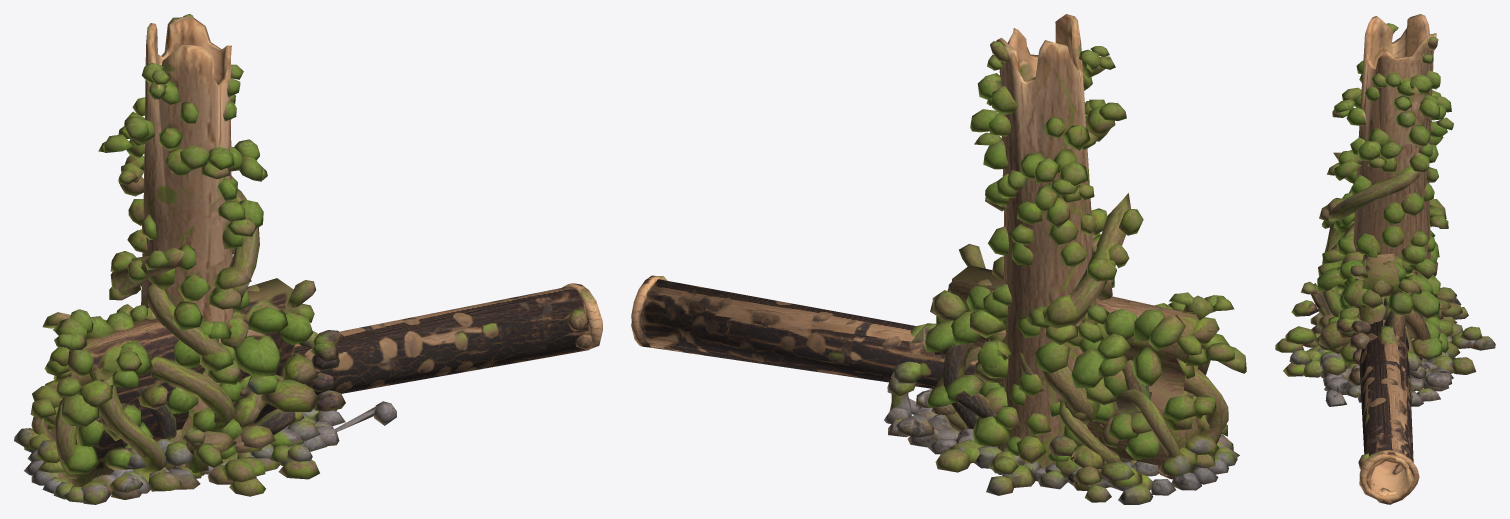
File: bosque_ruinas.glb
3 views of the same model, side by side, from view 1: azimuth 30°, elevation 25°; view 2: azimuth 150°, elevation 25°; view 3: azimuth 270°, elevation 25° (orthographic). The views are drawn at different scales.
Visible parts, largest first — view 1: tronco_puente_pie, bloqueo_enredaderas, tronco_puente_caido, bloqueo_enredaderas_quemado; view 2: tronco_puente_pie, bloqueo_enredaderas, tronco_puente_caido, bloqueo_enredaderas_quemado; view 3: tronco_puente_pie, bloqueo_enredaderas, tronco_puente_caido, bloqueo_enredaderas_quemado.
Part boxes in pixels (left/top/right/bottom): tronco_puente_pie: left=98, top=14, right=319, bottom=496; bloqueo_enredaderas: left=14, top=278, right=396, bottom=504; tronco_puente_caido: left=232, top=283, right=602, bottom=403; bloqueo_enredaderas_quemado: left=96, top=330, right=345, bottom=493; tronco_puente_pie: left=935, top=14, right=1143, bottom=502; bloqueo_enredaderas: left=924, top=244, right=1246, bottom=504; tronco_puente_caido: left=631, top=275, right=1003, bottom=392; bloqueo_enredaderas_quemado: left=884, top=302, right=1194, bottom=491; tronco_puente_pie: left=1275, top=14, right=1495, bottom=377; bloqueo_enredaderas: left=1310, top=176, right=1461, bottom=406; tronco_puente_caido: left=1358, top=317, right=1419, bottom=504; bloqueo_enredaderas_quemado: left=1317, top=293, right=1453, bottom=406.
Size of the model in its own units: 3.7 by 2.6 by 1.58.
Materials: 1 (1 with a texture image).
